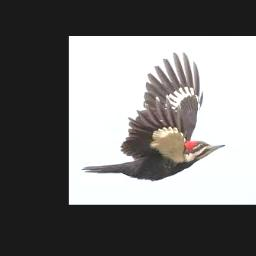Woodpecker: (82, 52, 226, 180)
